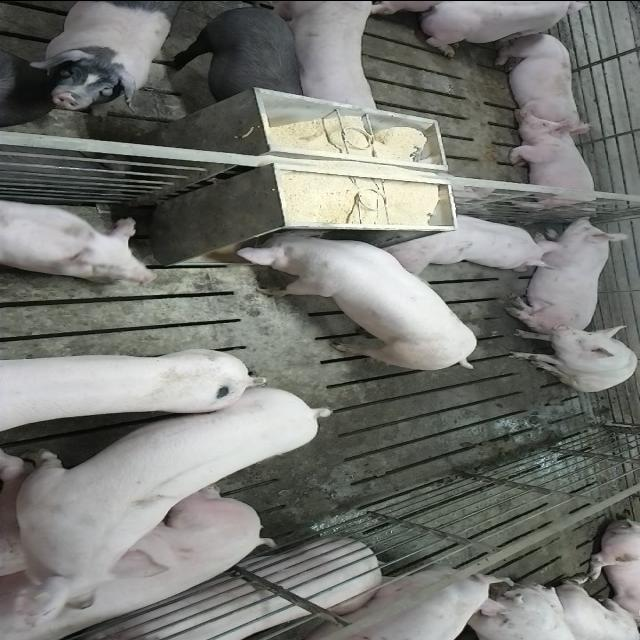Feeding: (232, 230, 478, 374)
Lateral_lying: (6, 485, 278, 640), (47, 536, 387, 640)
Sitting: (503, 322, 636, 392)
Standing: (4, 384, 342, 608), (0, 346, 260, 424), (276, 563, 516, 640), (32, 3, 176, 113), (163, 3, 305, 113), (270, 2, 384, 120)
Sternal_lying: (0, 195, 158, 289), (504, 210, 632, 326), (384, 209, 566, 271), (416, 2, 604, 56), (505, 116, 603, 215), (491, 30, 588, 130)
